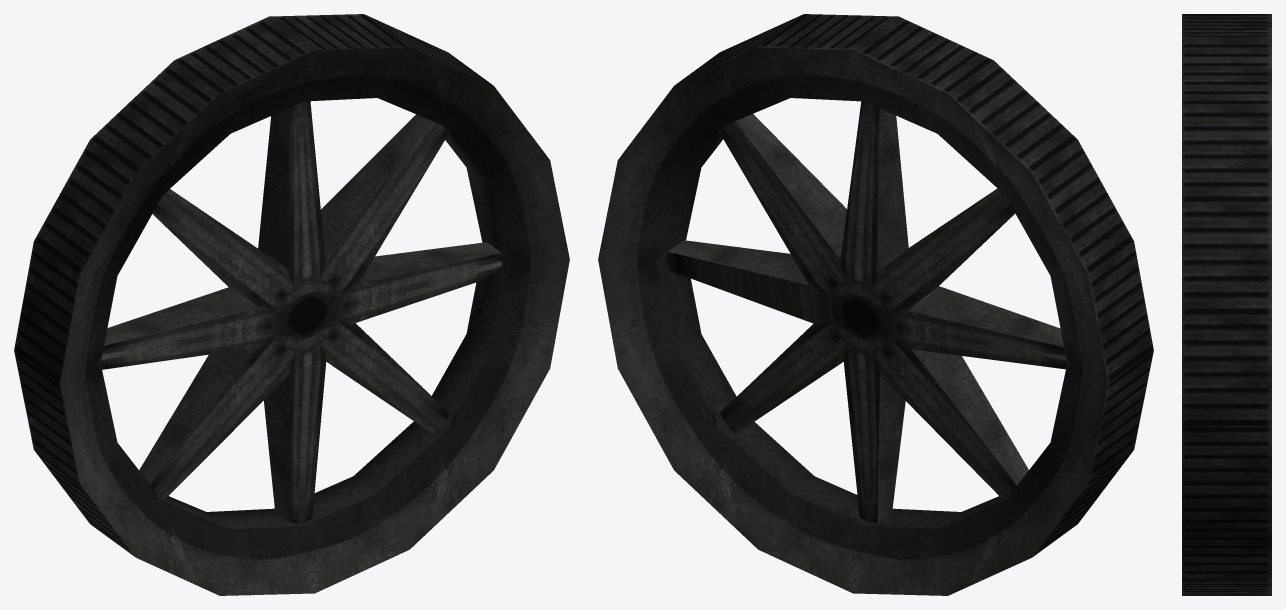
File: pir_m_prp_mng_wheel.fbx
3 views of the same model, side by side, from view 1: azimuth 30°, elevation 25°; view 2: azimuth 150°, elevation 25°; view 3: azimuth 270°, elevation 25° (orthographic). The views are drawn at different scales.
Visible parts, largest first — view 1: wheel_ring, wheel_spokes; view 2: wheel_ring, wheel_spokes; view 3: wheel_ring.
Part boxes in pixels (bbox=[...]): wheel_ring: bbox=[14, 14, 569, 595]; wheel_spokes: bbox=[100, 101, 504, 523]; wheel_ring: bbox=[598, 14, 1153, 595]; wheel_spokes: bbox=[667, 101, 1067, 522]; wheel_ring: bbox=[1182, 14, 1271, 595].
Size of the model in its own units: 723 by 736 by 113.
1 material, 1 textured.
